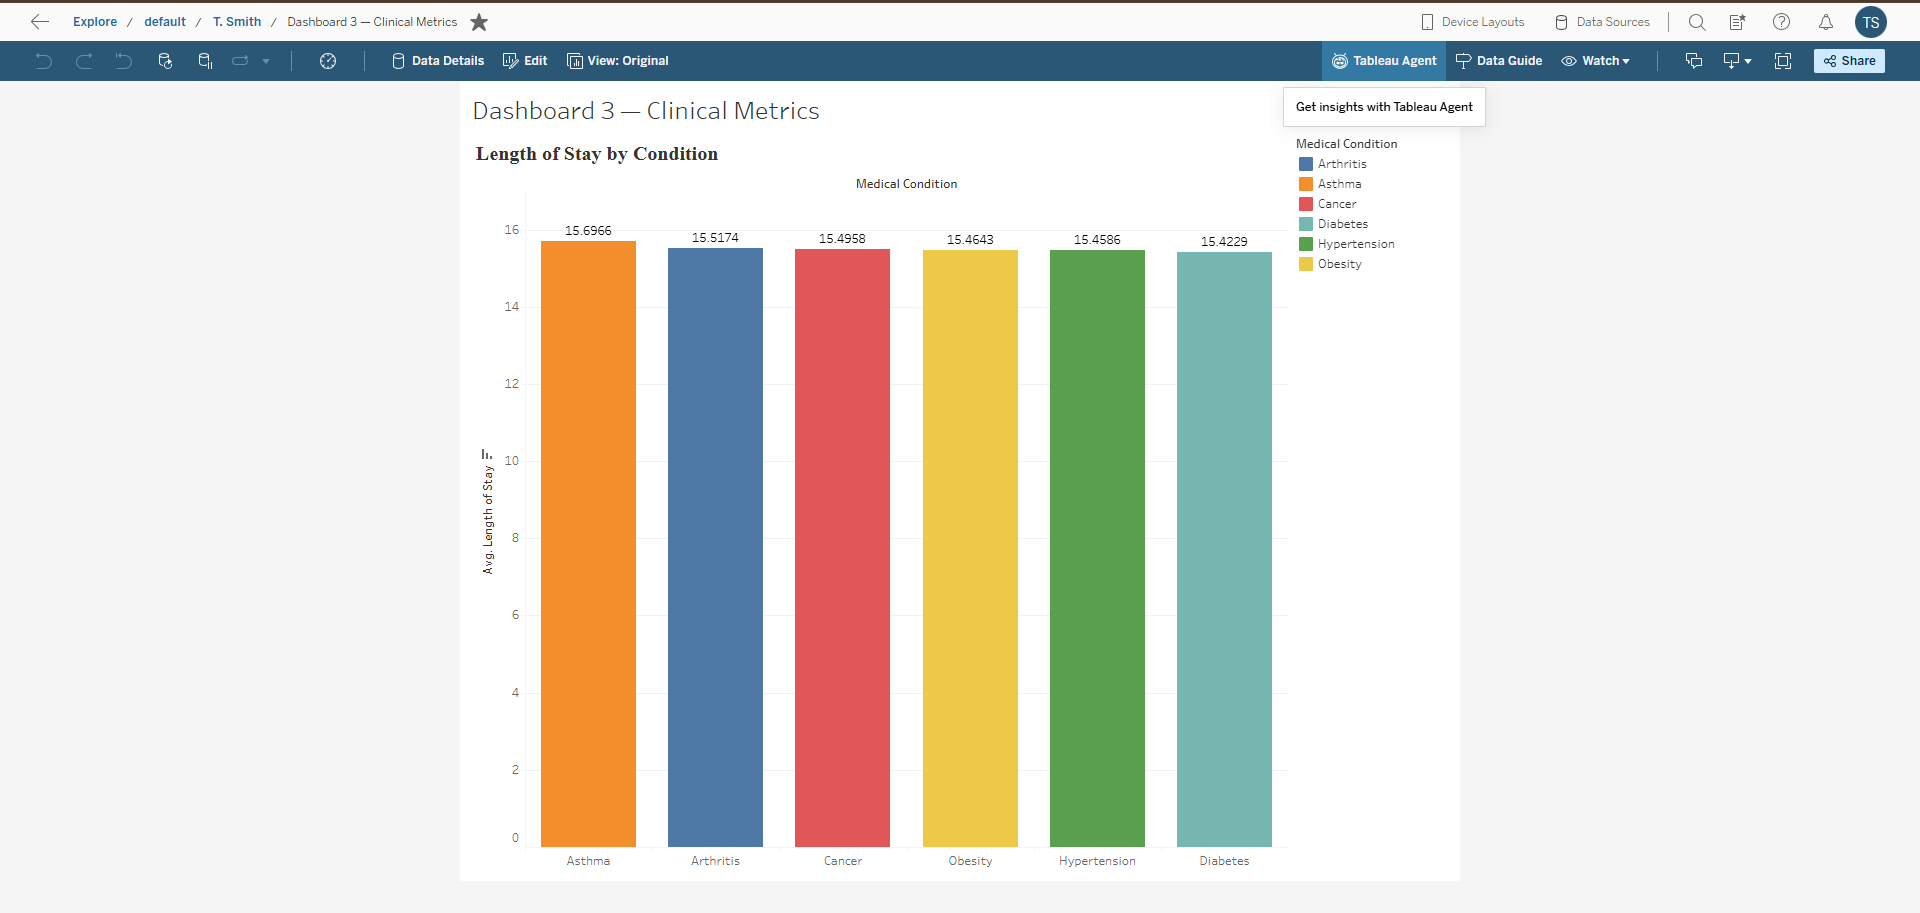

The dashboard page shown, as its layout file describes it:
{"tool":"tableau","page":{"name":"Dashboard 3 — Clinical Metrics","canvas":[1000,800],"ordinal":2},"visuals":[{"type":"title","box":[8,8,984,42]},{"type":"worksheet","title":"Sheet 3","mark":"Automatic","rows":["Length_of_Stay"],"cols":["Medical_Condition"],"box":[8,50,824,742]},{"type":"legend","title":"Sheet 3","param":"[sqlproxy.0tvkooc0zpwh0q198ijcr0giots4].[attr:Medical_Condition:nk]","box":[832,50,160,147]}]}

Visuals, with their boxes on the page's 1000x800 design canvas (x1, y1, x2, y2). These are canvas units, not pixel positions in the 1920x913 screenshot, which may show the page scaled, cropped or inside an application window:
title: left=8, top=8, right=992, bottom=50
"Sheet 3" worksheet: left=8, top=50, right=832, bottom=792
"Sheet 3" legend: left=832, top=50, right=992, bottom=197
